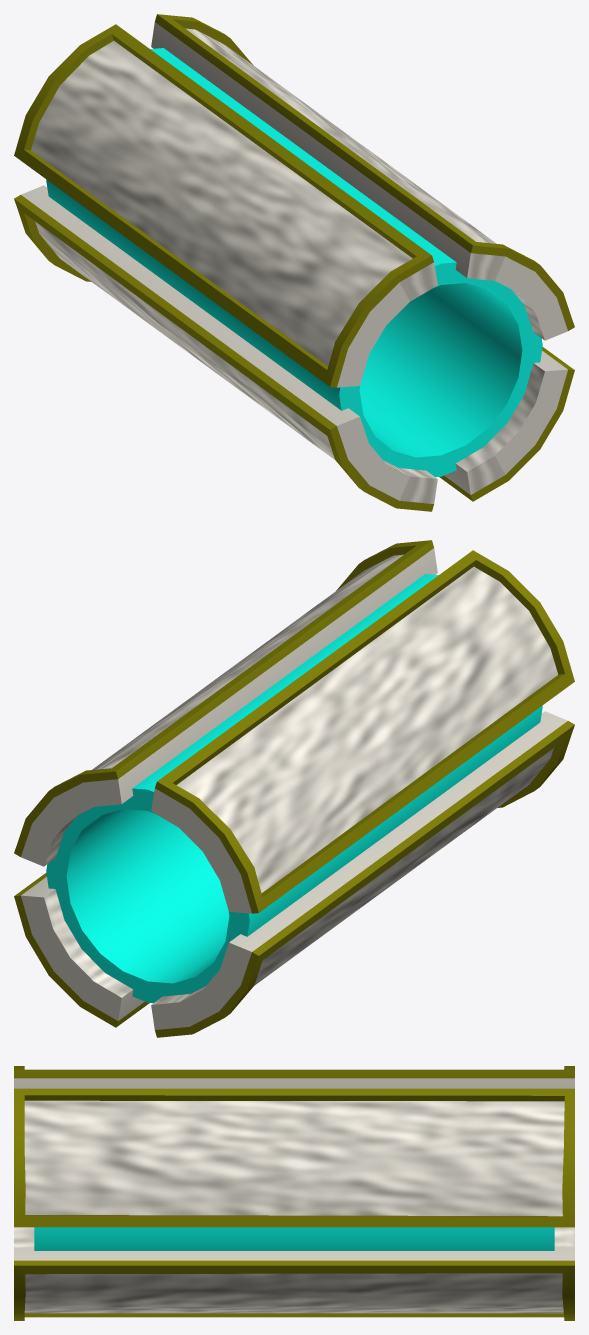
Rendered from f_taihou8.fbx.
3 renders of one model, top to bottom at view 1: azimuth 30°, elevation 25°; view 2: azimuth 150°, elevation 25°; view 3: azimuth 270°, elevation 25°, orthographic. The views are drawn at different scales.
Parts seen in each view (by area): view 1: f_taihou_4, f_taihou_4desactived; view 2: f_taihou_4, f_taihou_4desactived; view 3: f_taihou_4, f_taihou_4desactived.
Part boxes in pixels (x1,y1,x2,y2): f_taihou_4: (14, 14, 574, 511); f_taihou_4desactived: (46, 48, 542, 477); f_taihou_4: (14, 540, 574, 1037); f_taihou_4desactived: (46, 574, 542, 1003); f_taihou_4: (14, 1066, 574, 1320); f_taihou_4desactived: (34, 1227, 554, 1250).
Size of the model in its own units: 28.6 by 28.6 by 63.91.
Materials: 4 (4 with a texture image).
